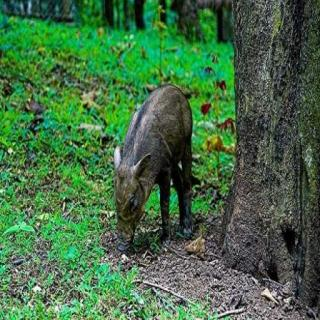Pig: (84, 70, 209, 258)
